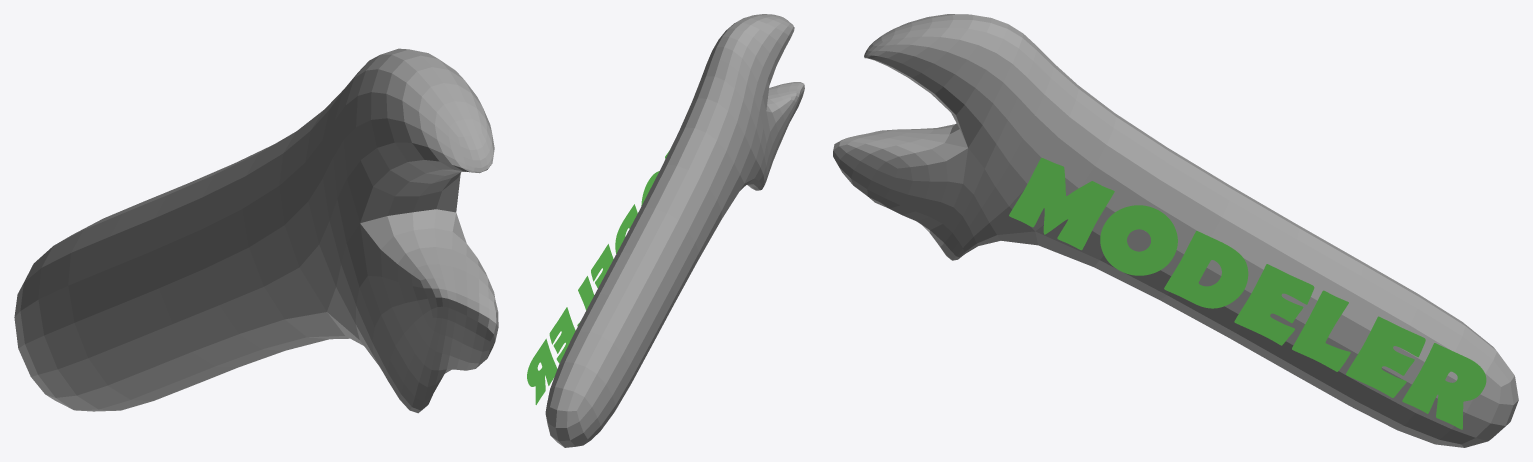
The model's file is MODELERWRENCH.fbx.
3 renders of one model, left to right at view 1: azimuth 30°, elevation 25°; view 2: azimuth 150°, elevation 25°; view 3: azimuth 270°, elevation 25°, orthographic. The views are drawn at different scales.
Parts seen in each view (by area): view 1: Cube; view 2: Cube, Text; view 3: Cube, Text.
Part boxes in pixels (x1,y1,x2,y2): Cube: (14, 48, 498, 413); Cube: (545, 14, 804, 447); Text: (527, 150, 669, 404); Cube: (833, 14, 1518, 447); Text: (1009, 157, 1486, 429).
Bounding box in the file's own units: 57.72 × 244 × 354.
